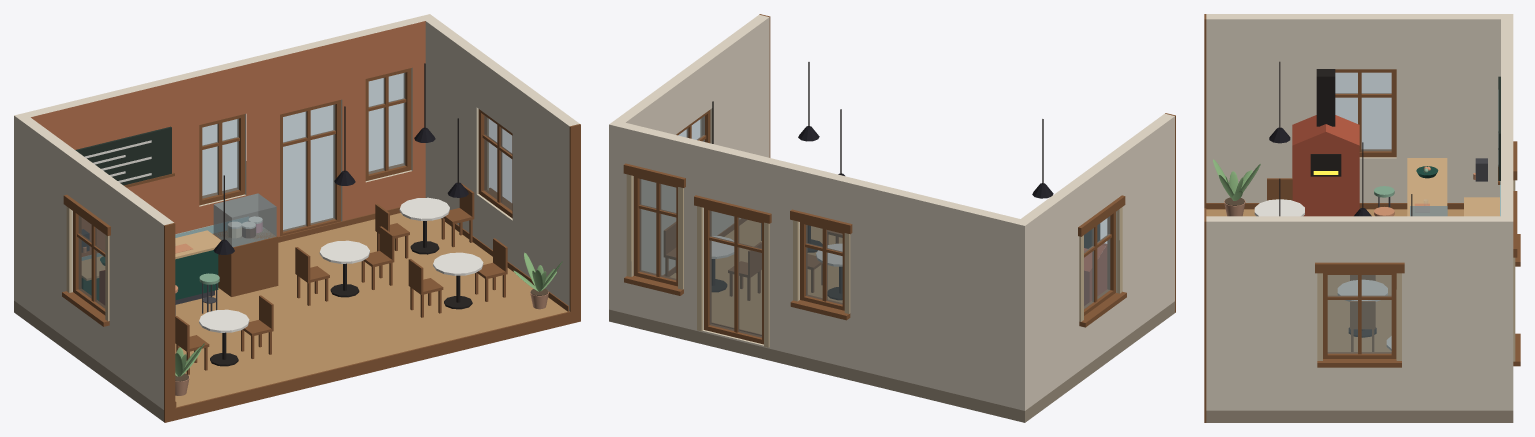
Rendered from map-cafe.glb.
The picture shows the model from 3 angles, left to right: view 1: azimuth 30°, elevation 25°; view 2: azimuth 150°, elevation 25°; view 3: azimuth 270°, elevation 25°; orthographic projection. The views are drawn at different scales.
Visible parts, largest first — view 1: Walls, Floor_Slab, Windows_Glass, Cafe_Tables, Cake_Display, Menu_Board, Bar_Counter, Plant_Desk, Plant_Loft_A; view 2: Walls, Windows_Glass, Floor_Slab, Cafe_Tables, Bread_Oven; view 3: Walls, Windows_Glass, Bread_Oven, Floor_Slab, Cafe_Tables, Bar_Counter, Plant_Loft_A, Countertop, Cake_Display, Menu_Board, Coffee_Maker.
Boxes of the visible parts, x1,y1,x2,y2 form: Walls: [14, 14, 580, 422]; Floor_Slab: [14, 213, 569, 421]; Windows_Glass: [78, 73, 512, 308]; Cafe_Tables: [175, 63, 507, 374]; Cake_Display: [213, 193, 278, 296]; Menu_Board: [75, 126, 174, 187]; Bar_Counter: [81, 230, 221, 304]; Plant_Desk: [513, 252, 562, 309]; Plant_Loft_A: [175, 343, 204, 395]; Walls: [609, 14, 1175, 410]; Windows_Glass: [639, 116, 1110, 337]; Floor_Slab: [609, 220, 1174, 422]; Cafe_Tables: [663, 62, 1053, 300]; Bread_Oven: [1084, 224, 1107, 305]; Walls: [1204, 14, 1520, 422]; Windows_Glass: [1327, 72, 1391, 353]; Bread_Oven: [1292, 69, 1359, 216]; Floor_Slab: [1206, 209, 1513, 422]; Cafe_Tables: [1254, 61, 1412, 351]; Bar_Counter: [1407, 158, 1447, 216]; Plant_Loft_A: [1213, 159, 1260, 216]; Countertop: [1464, 181, 1500, 216]; Cake_Display: [1410, 206, 1447, 216]; Menu_Board: [1498, 76, 1500, 184]; Coffee_Maker: [1473, 158, 1487, 181].
Size of the model in its own units: 8.24 by 3.62 by 5.15.
